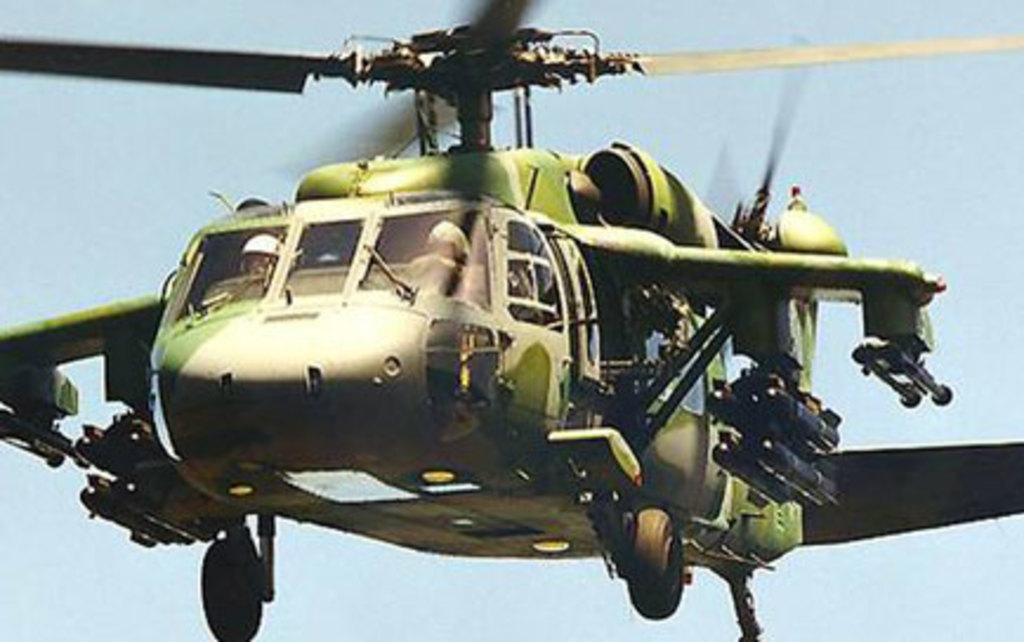person: (358, 217, 472, 302)
